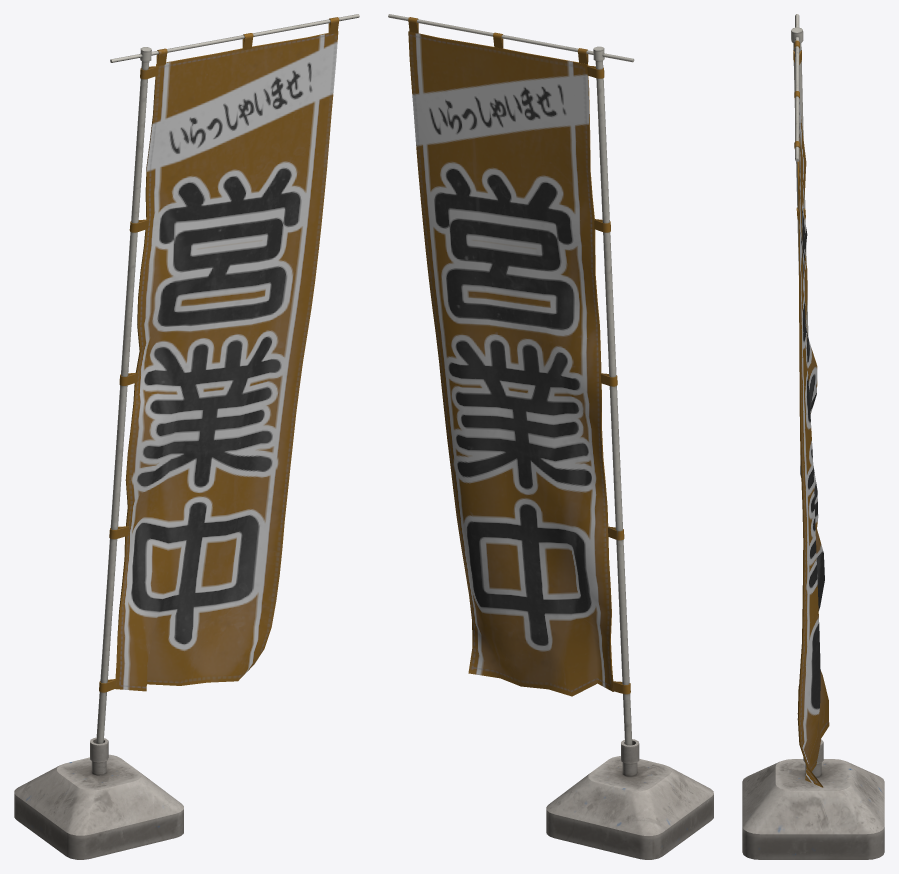
File: bannerflagD.fbx
The picture shows the model from 3 angles, left to right: view 1: azimuth 30°, elevation 25°; view 2: azimuth 150°, elevation 25°; view 3: azimuth 270°, elevation 25°; orthographic projection. The views are drawn at different scales.
Parts seen in each view (by area): view 1: bannerflagD; view 2: bannerflagD; view 3: bannerflagD.
Part boxes in pixels (x1,y1,x2,y2): bannerflagD: [14, 14, 359, 859]; bannerflagD: [388, 14, 713, 859]; bannerflagD: [742, 14, 884, 859].
Bounding box in the file's own units: 93.68 × 223 × 35.
1 material, 1 textured.
